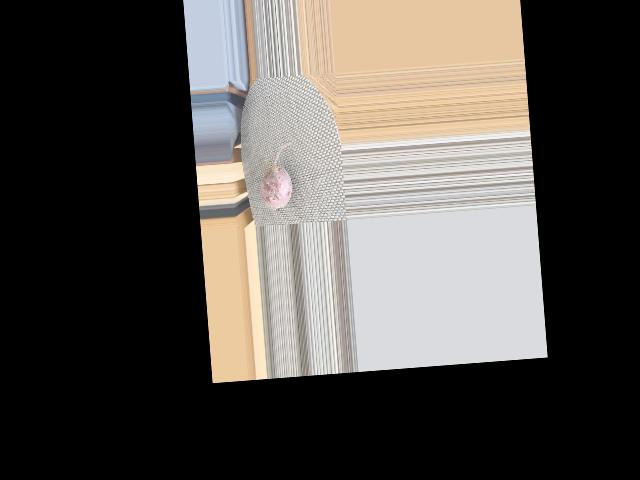beet: (256, 142, 297, 209)
